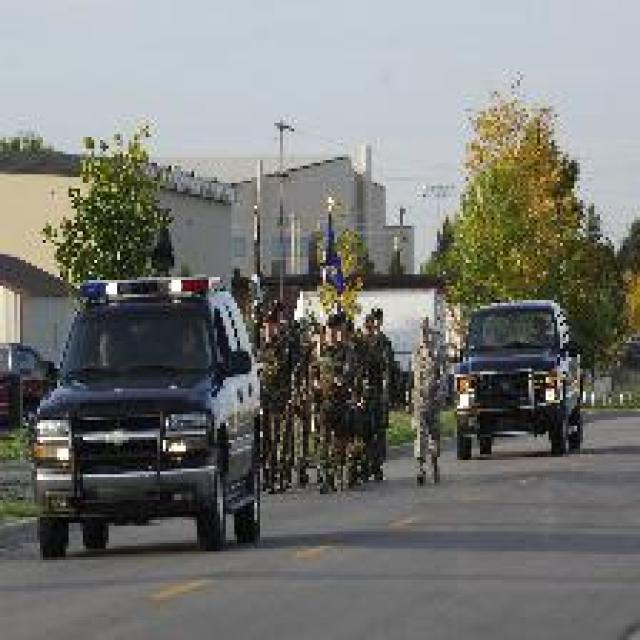Police-car: (26, 269, 263, 557)
